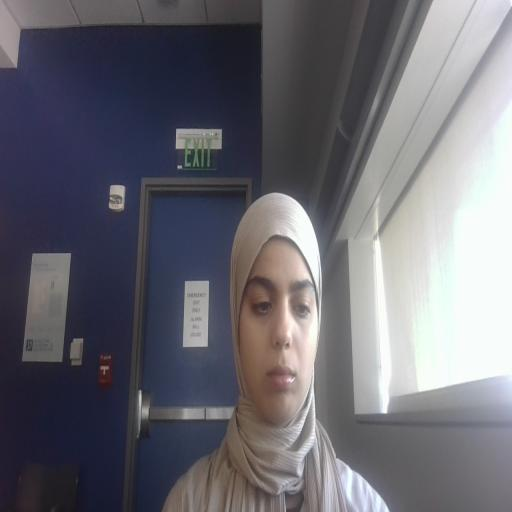lookingdownatphone: (238, 238, 318, 425)
